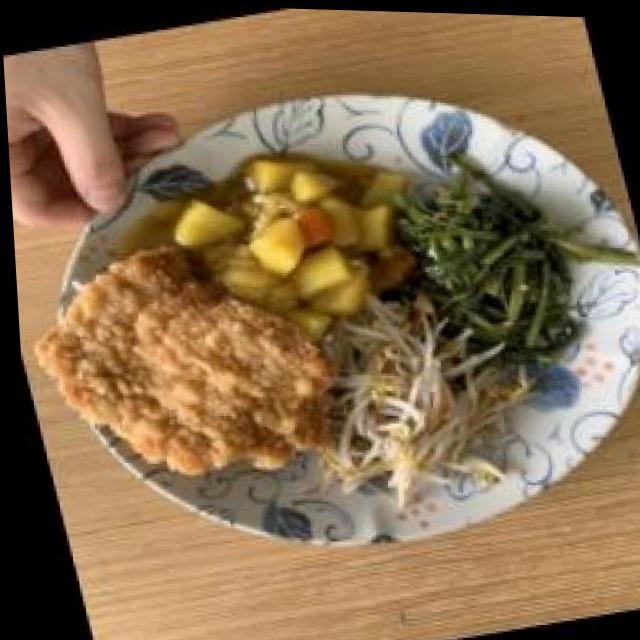curry: (185, 149, 407, 302)
fried_chicken: (55, 256, 305, 485)
mung_bean_sprouts: (314, 305, 495, 482)
water_spinach: (418, 172, 580, 343)
